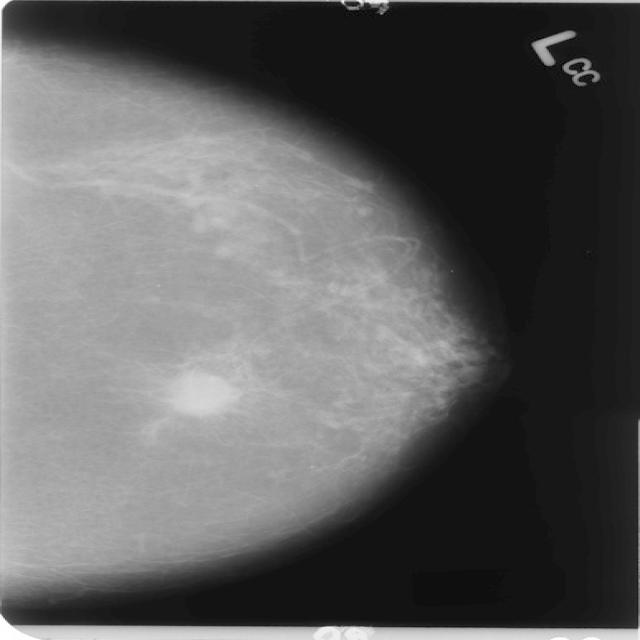tumour: (164, 372, 235, 414)
